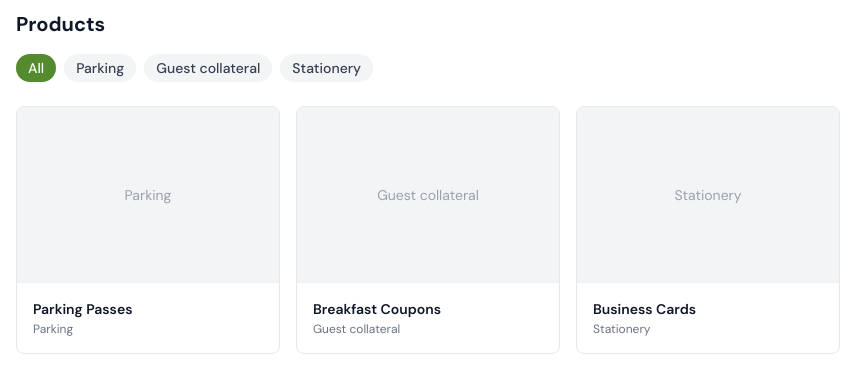
PortalCatalogPage › filters to the chosen category
Click the button "Guest collateral" at {"x": 208, "y": 68}, box x1=144 y1=54 x2=272 y2=82
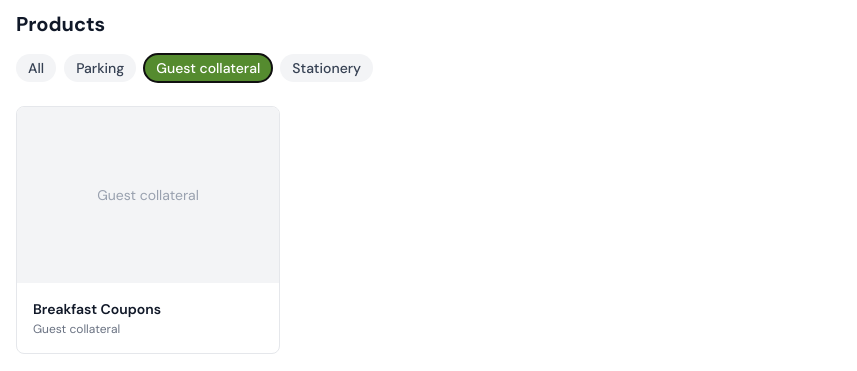
Check: the heading "Breakfast Coupons" is shown, box x1=33 y1=300 x2=161 y2=318
Check: the link "Parking Passes" is gone
